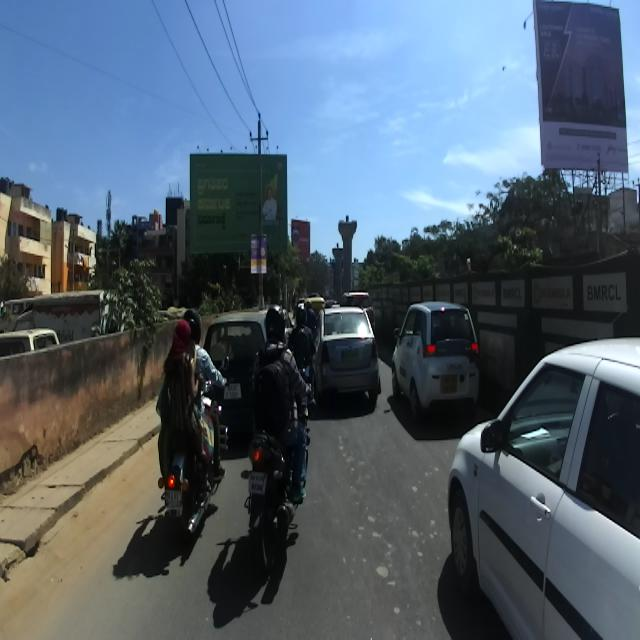car ahead at: (394, 296, 482, 404), (317, 306, 379, 400)
motorcycle ahead at: (238, 432, 300, 574), (156, 448, 212, 542)
